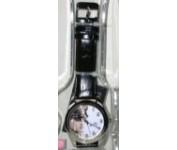watch: (58, 0, 118, 150)
